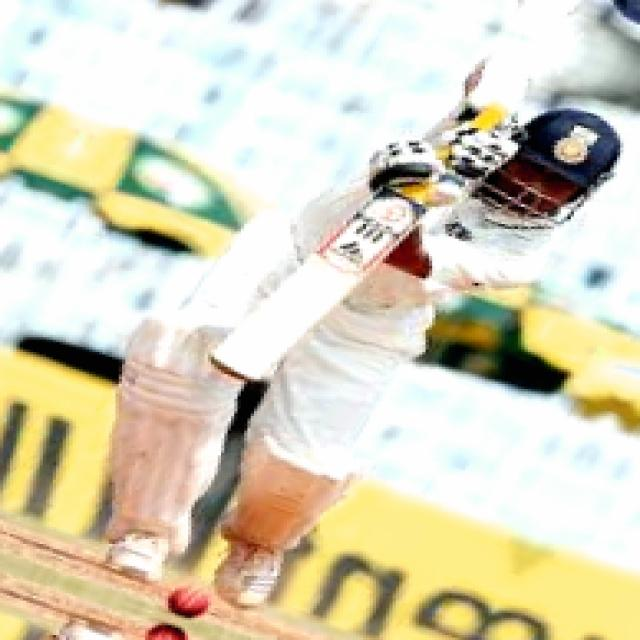toe: (205, 329, 304, 391)
